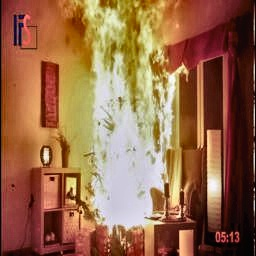fire: (57, 2, 187, 229)
